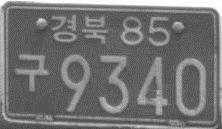0: (173, 56, 208, 118)
3: (97, 52, 129, 115)
4: (135, 54, 169, 119)
5: (147, 14, 170, 46)
8: (119, 15, 143, 45)
9: (59, 53, 92, 114)
경북_O: (49, 14, 109, 44)
구: (12, 51, 50, 94)
